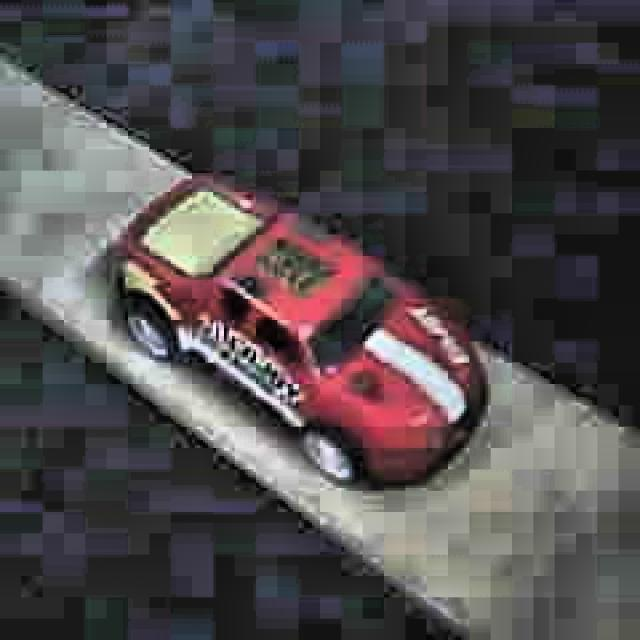car: (115, 166, 495, 496)
